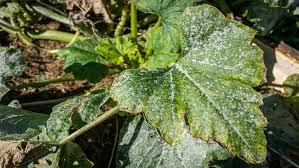powdery_mildew: (32, 8, 281, 161)
